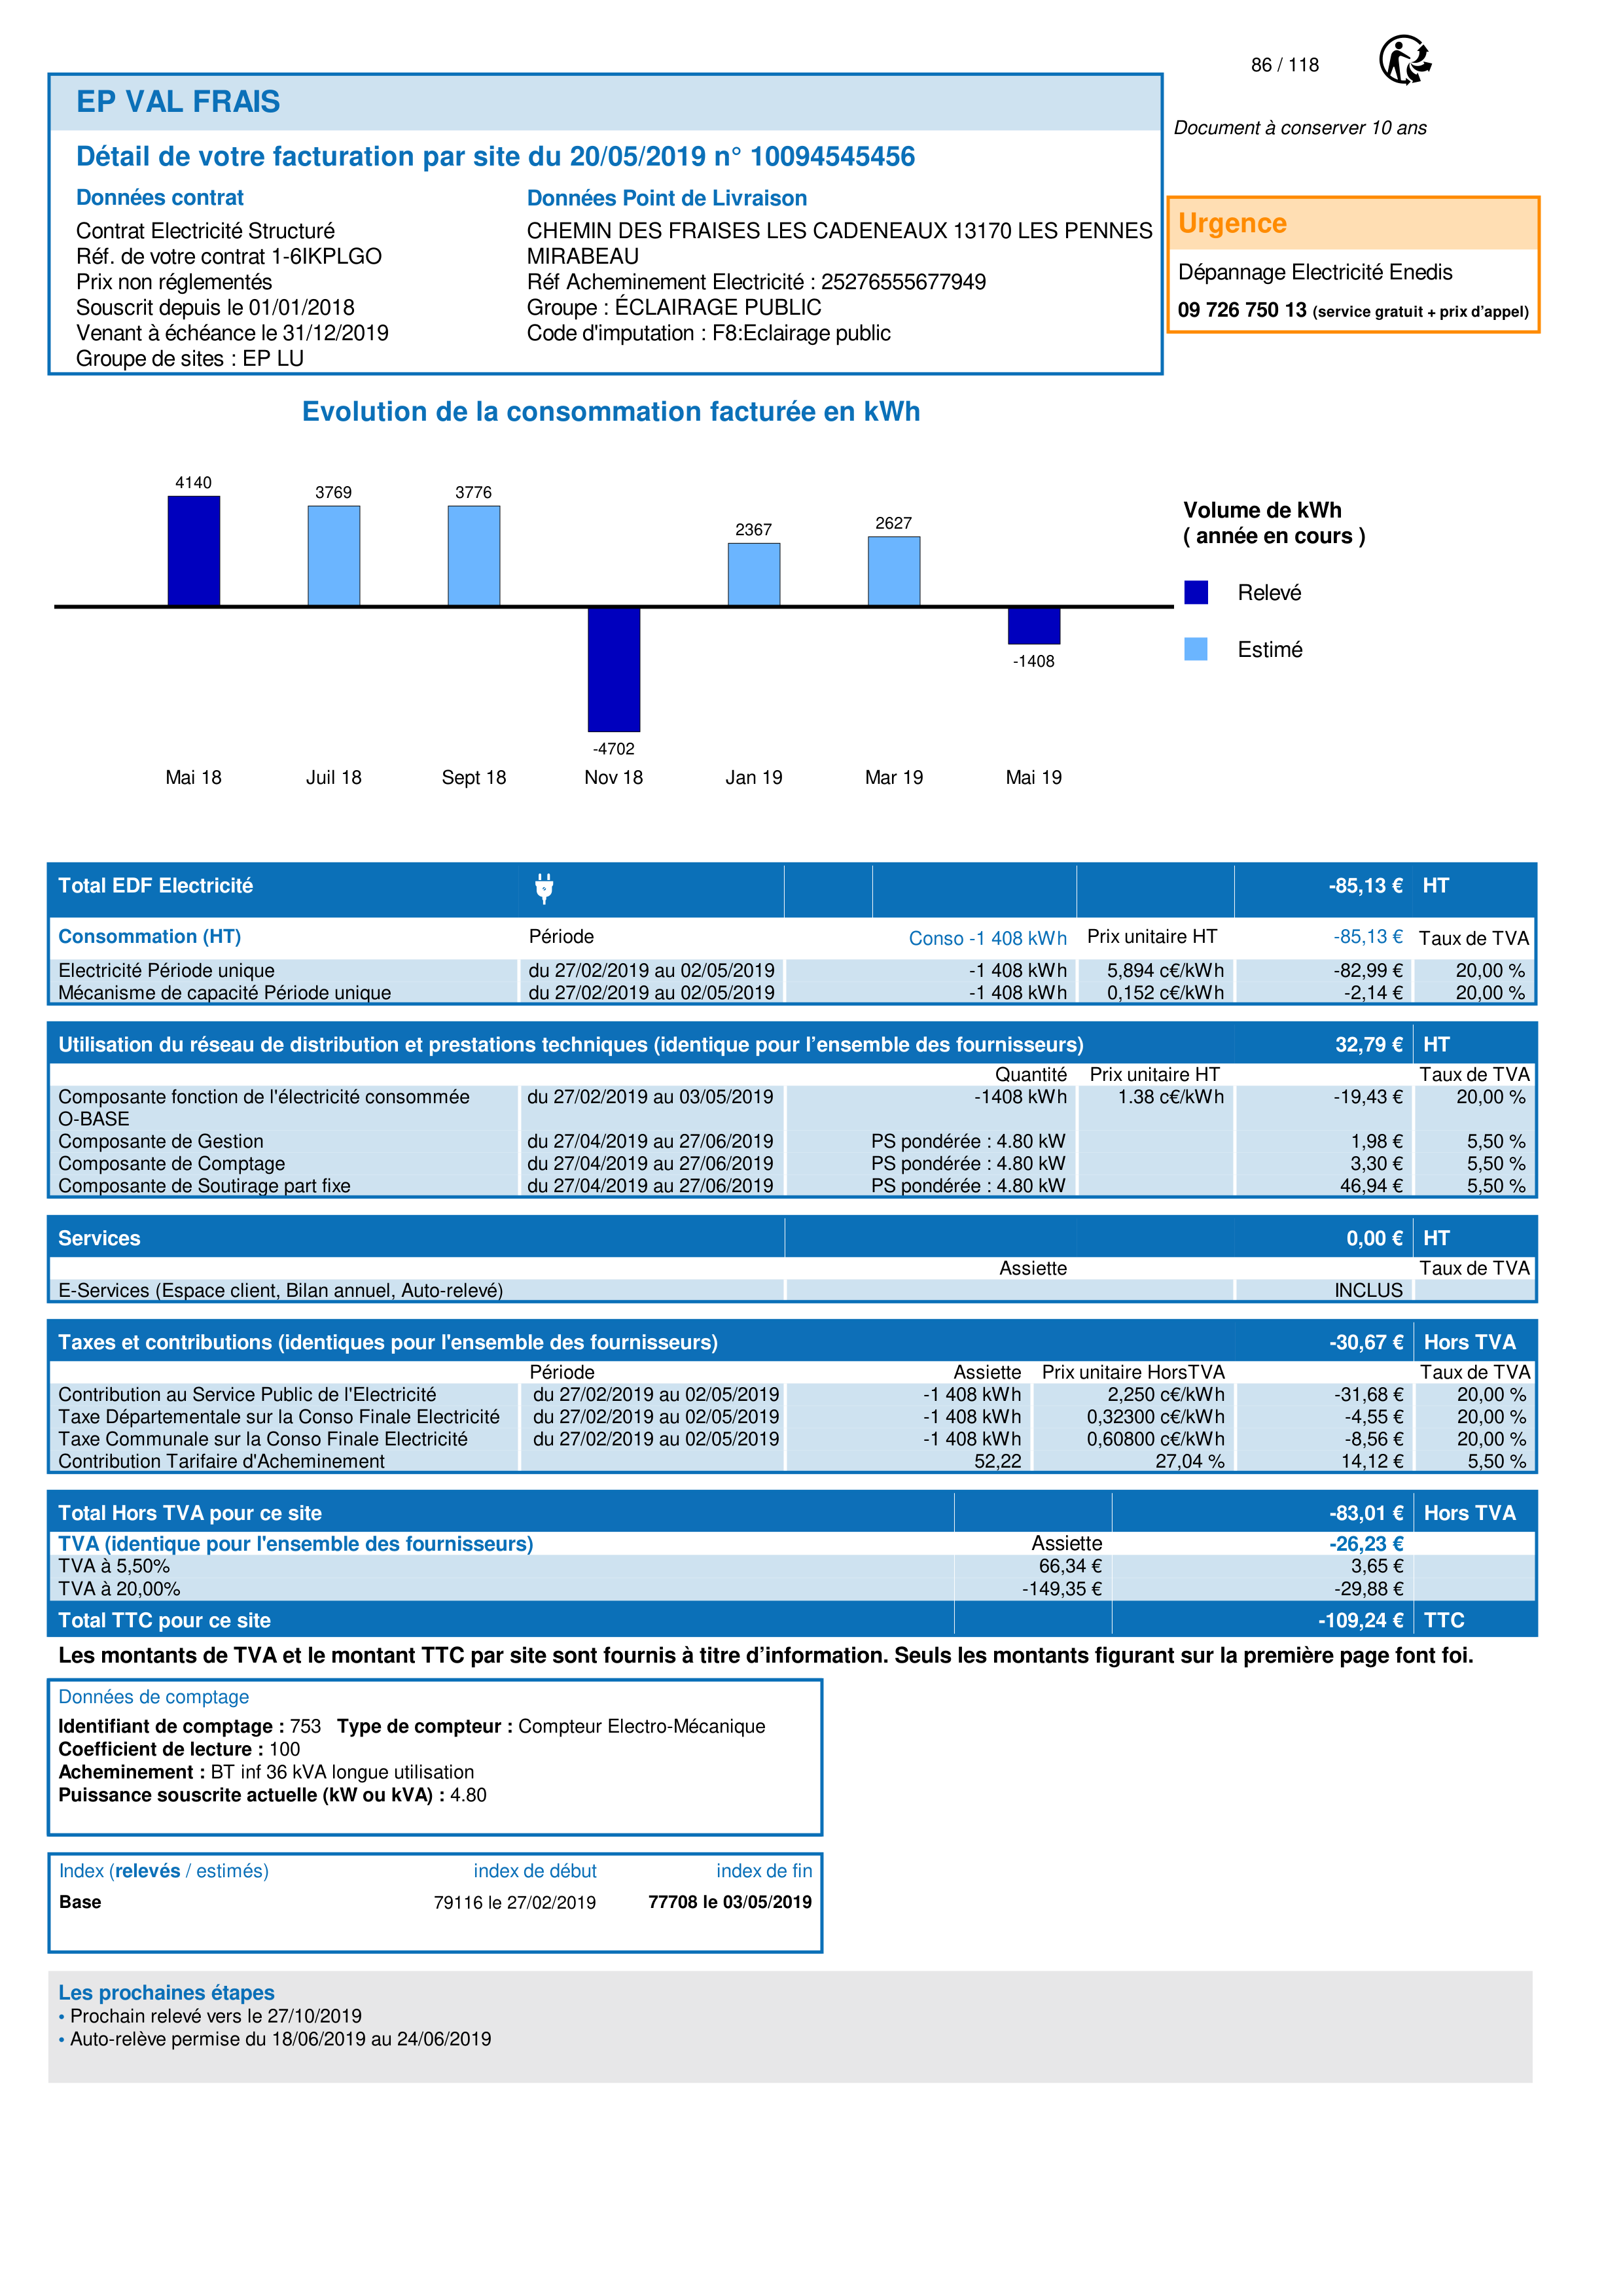area: (48, 1852, 819, 1950)
type_indicator: (50, 1855, 282, 1886)
